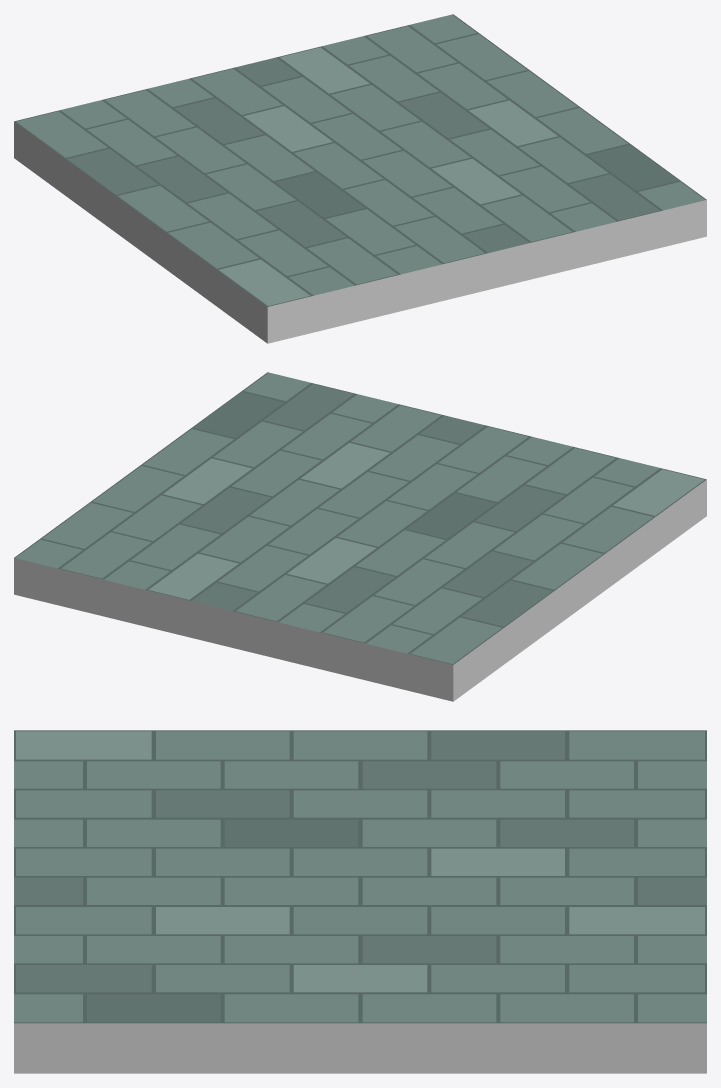
The model's file is Floor17_01.fbx.
3 renders of one model, top to bottom at view 1: azimuth 30°, elevation 25°; view 2: azimuth 150°, elevation 25°; view 3: azimuth 270°, elevation 25°, orthographic. The views are drawn at different scales.
Visible parts, largest first — view 1: Floor17_01; view 2: Floor17_01; view 3: Floor17_01.
Boxes of the visible parts, x1,y1,x2,y2 form: Floor17_01: (14,14,706,343); Floor17_01: (14,372,706,701); Floor17_01: (14,730,706,1073).
Size of the model in its own units: 250 by 20 by 250.
